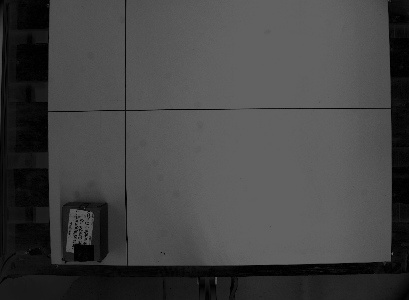b6: (59, 199, 110, 263)
